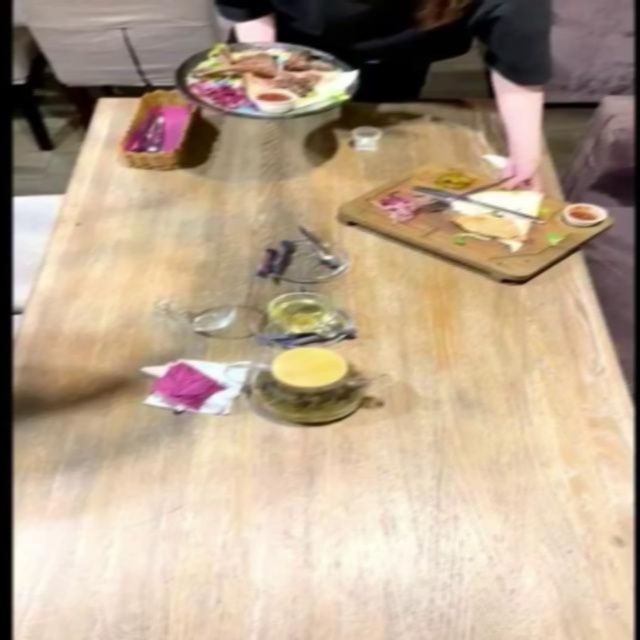meat: (331, 163, 621, 294), (170, 43, 371, 126)
tea: (213, 342, 359, 418)
